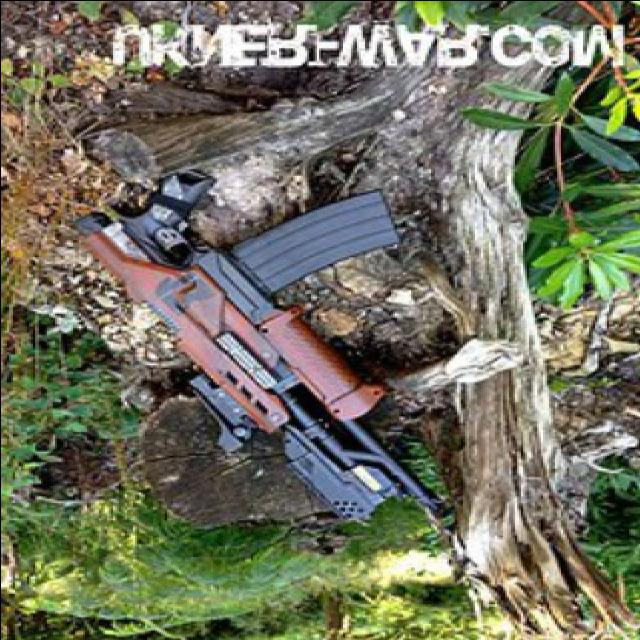rifle: (69, 176, 447, 544)
